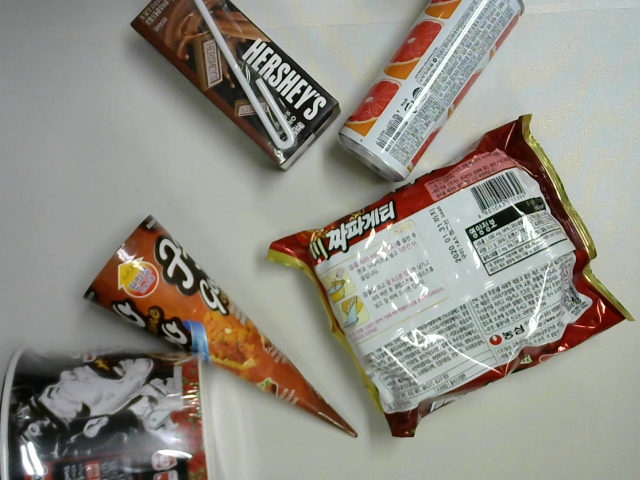Demisoda_Grapefruit_Can_250ml: (334, 1, 535, 184)
GooGoo_Cone_CVS: (78, 210, 366, 449)
HeJangsock: (1, 335, 231, 480)
Hush_Choco_Drink: (121, 1, 347, 180)
Sichuan_Chapaghetti: (258, 107, 640, 450)
